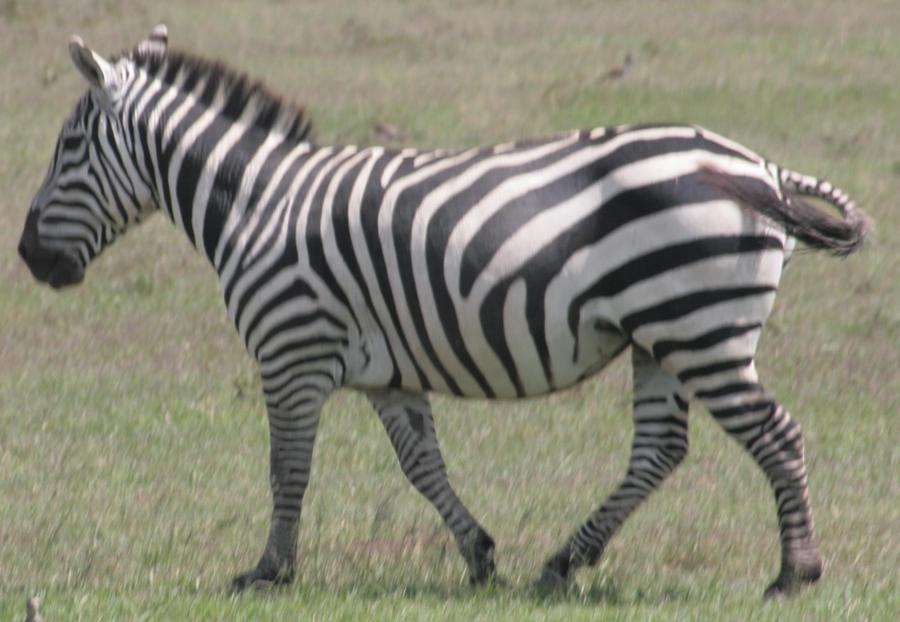zebra_plains: (212, 118, 767, 405)
